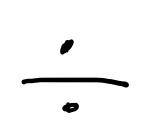div: (22, 39, 130, 115)
